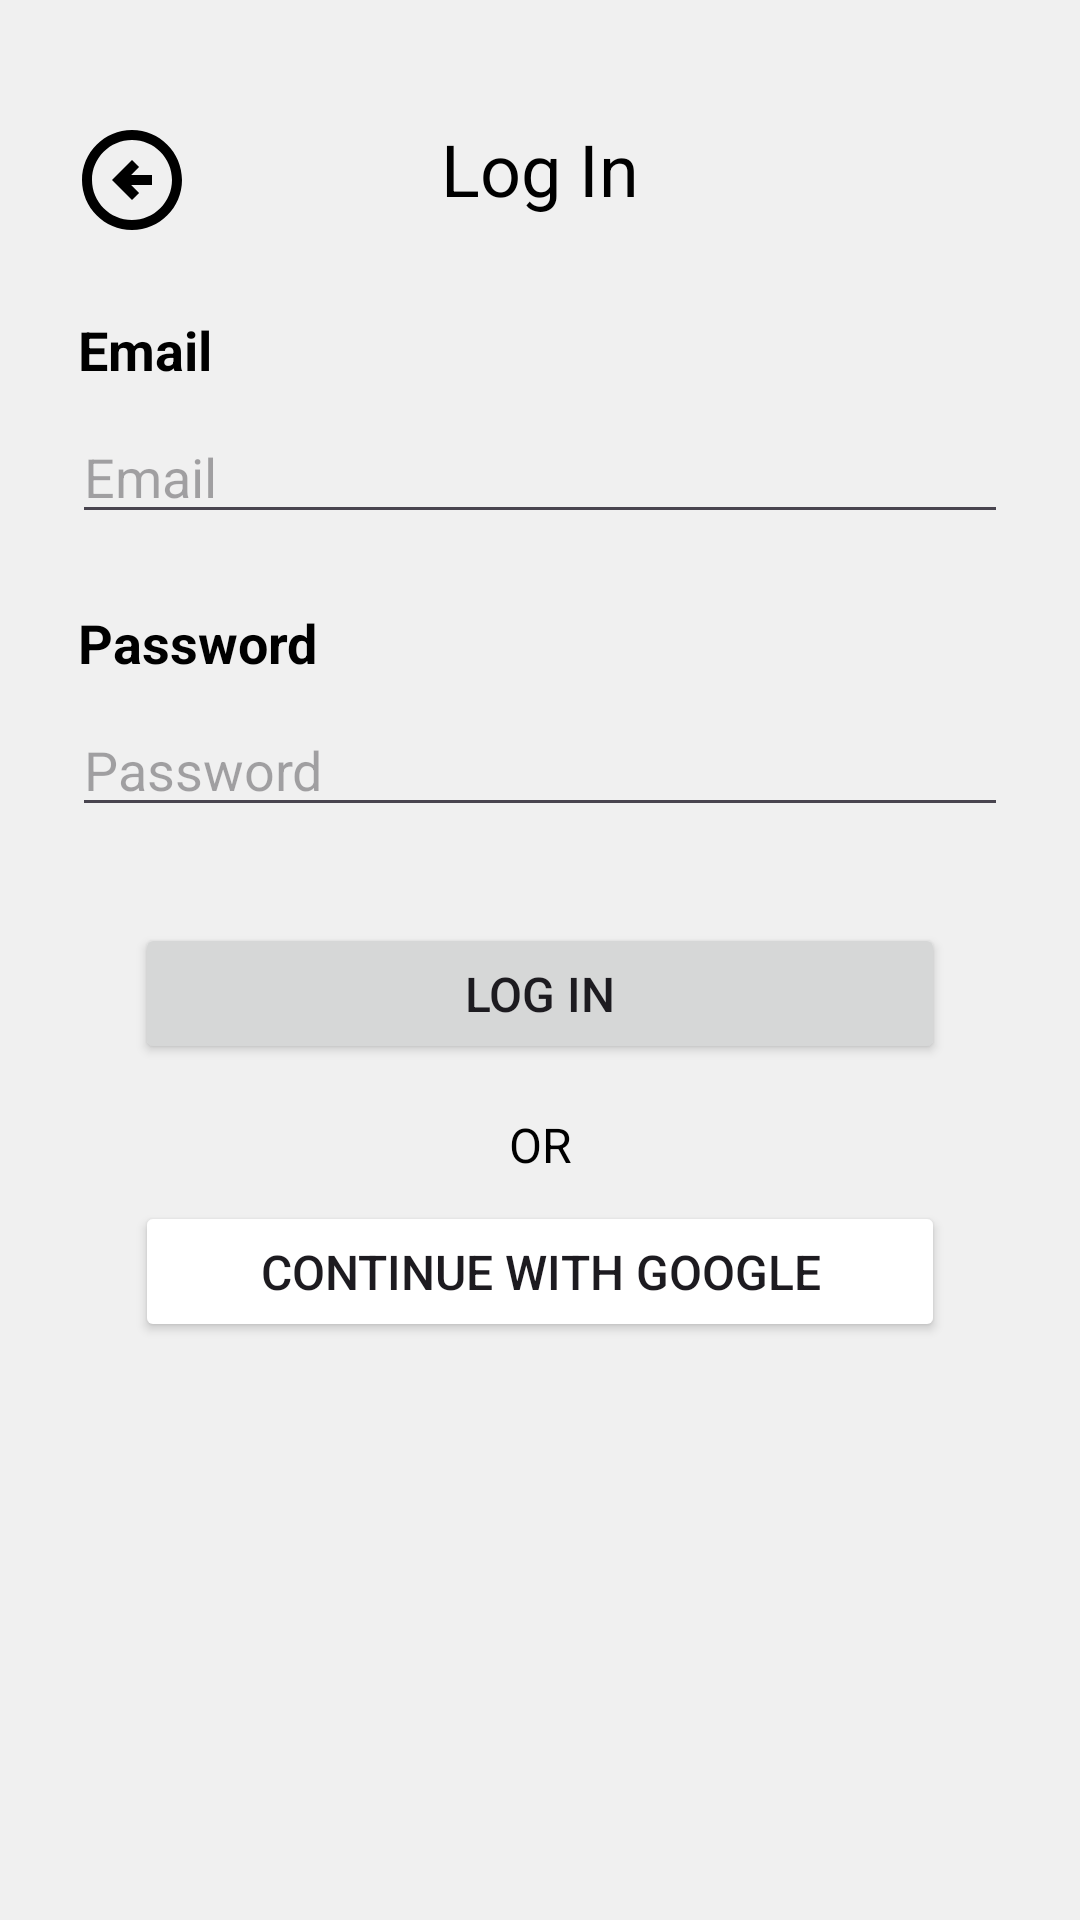

Where icons sit on this 1080*1920 app screen, as (x1, y1, x2, y2):
back arrow: (82, 130, 182, 230)
